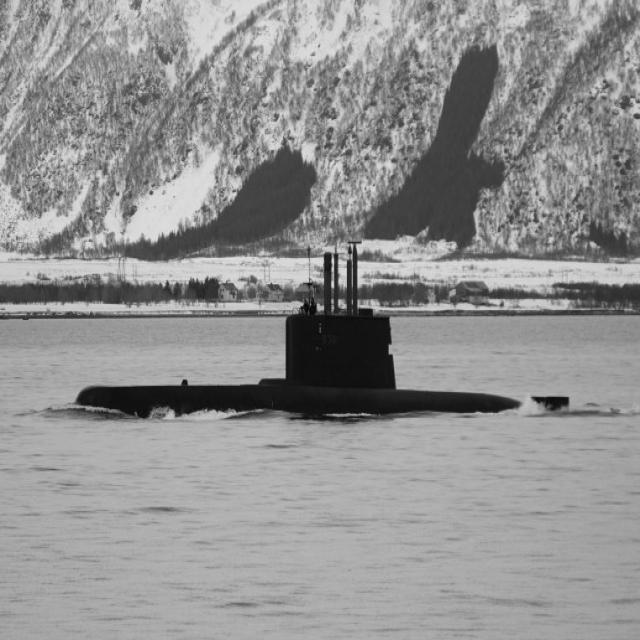submarine: (81, 233, 582, 418)
